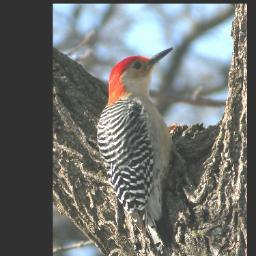Woodpecker: (94, 45, 189, 255)
